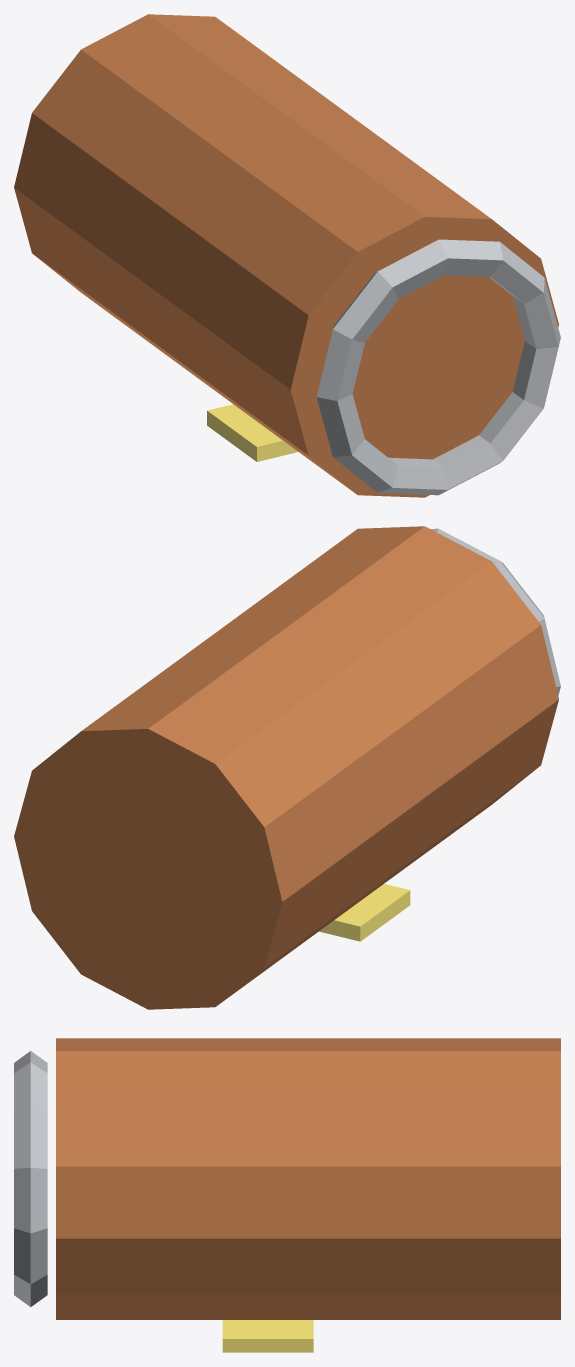
The model's file is industrial_fuel_canister.glb.
The picture shows the model from 3 angles, top to bottom: view 1: azimuth 30°, elevation 25°; view 2: azimuth 150°, elevation 25°; view 3: azimuth 270°, elevation 25°; orthographic projection. The views are drawn at different scales.
Visible parts, largest first — view 1: tank, handle, warning_label; view 2: tank, warning_label, handle; view 3: tank, handle, warning_label.
Boxes of the visible parts, left/top/right/bottom form: tank: left=14, top=14, right=558, bottom=497; handle: left=316, top=239, right=560, bottom=495; warning_label: left=207, top=404, right=297, bottom=461; tank: left=14, top=526, right=558, bottom=1009; warning_label: left=319, top=884, right=410, bottom=941; handle: left=430, top=528, right=560, bottom=695; tank: left=56, top=1038, right=560, bottom=1319; handle: left=14, top=1051, right=47, bottom=1306; warning_label: left=222, top=1320, right=313, bottom=1352.
Size of the model in its own units: 0.56 by 0.585 by 1.08.
